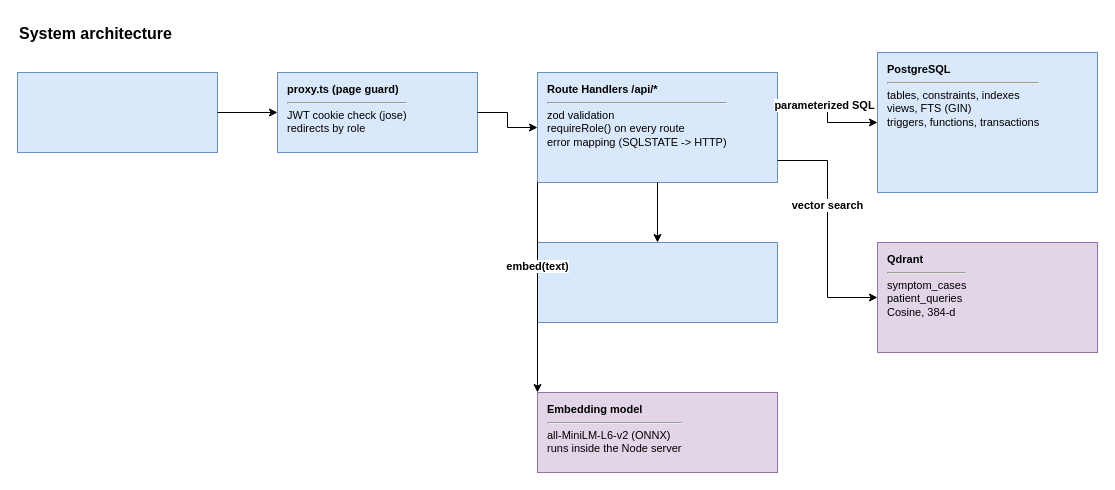
Image size: 1115x490. Some labels were removed from this diagram. Here are the shapes that lost their labels. From the top down, the centre of each, then its label:
At (x=117, y=112): "Browser Next.js pages (React, Tailwind) patient + admin UI".
At (x=657, y=282): "Auth layer bcryptjs hashing (cost 10) JWT HS256, HttpOnly cookie, 8 h".
